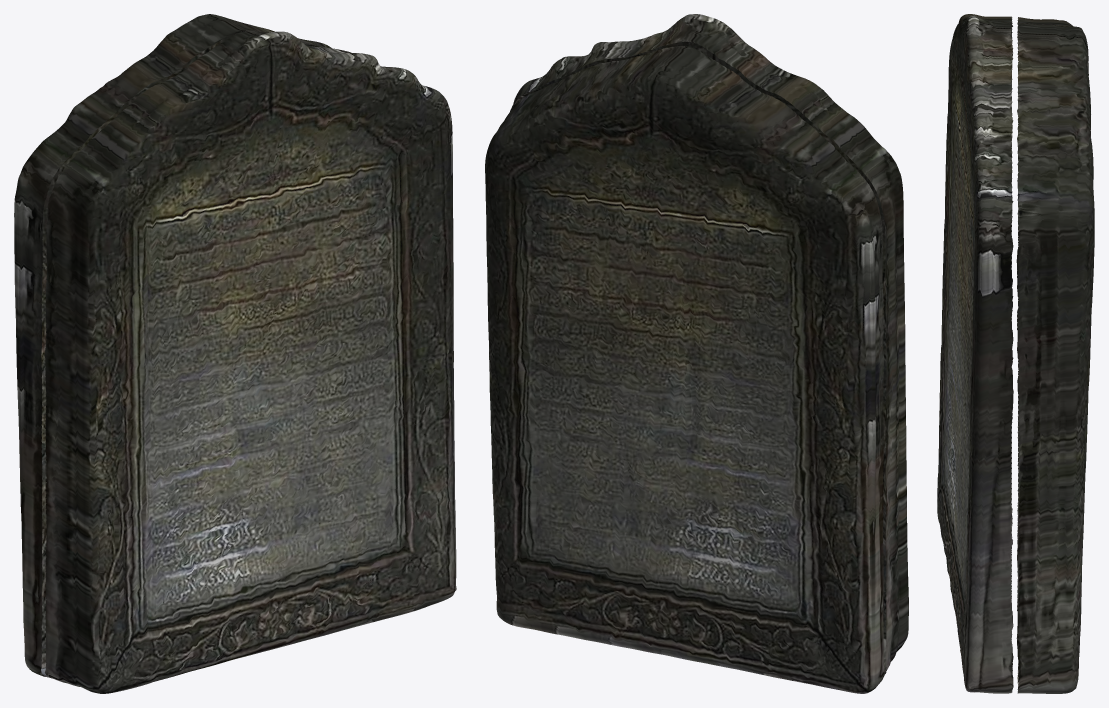
The model's file is kfl-2189.glb.
3 renders of one model, left to right at view 1: azimuth 30°, elevation 25°; view 2: azimuth 150°, elevation 25°; view 3: azimuth 270°, elevation 25°, orthographic. The views are drawn at different scales.
Parts seen in each view (by area): view 1: geometry_0; view 2: geometry_0; view 3: geometry_0.
Boxes of the visible parts, <box> form: geometry_0: <box>14,14,456,693</box>; geometry_0: <box>485,14,908,693</box>; geometry_0: <box>937,14,1094,693</box>.
Bounding box in the file's own units: 0.677 × 0.9978 × 0.2371.
Materials: 1 (1 with a texture image).
